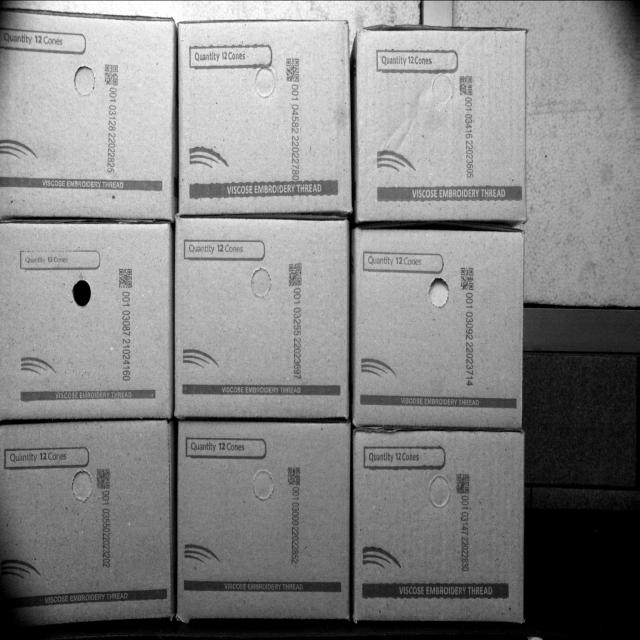cardboxes: (0, 6, 175, 218), (175, 417, 353, 619), (0, 417, 174, 623), (175, 217, 352, 417), (351, 226, 527, 426), (176, 17, 352, 217), (0, 219, 175, 416), (353, 429, 526, 623), (359, 23, 529, 218)
